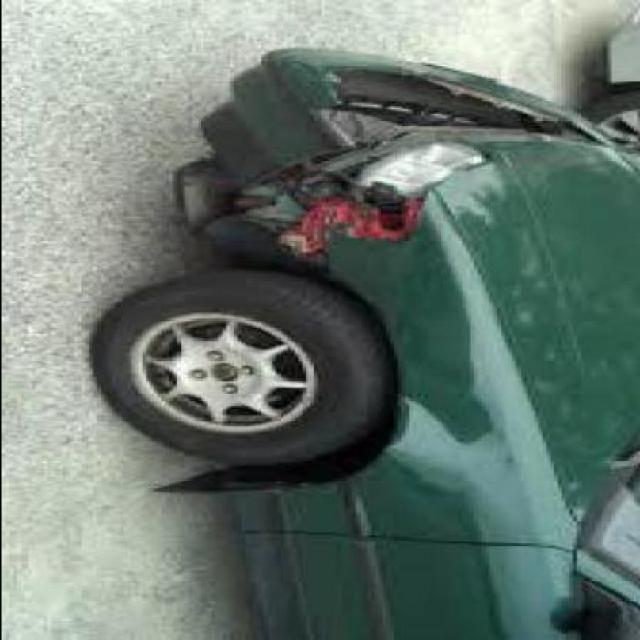damage: (171, 47, 603, 272)
